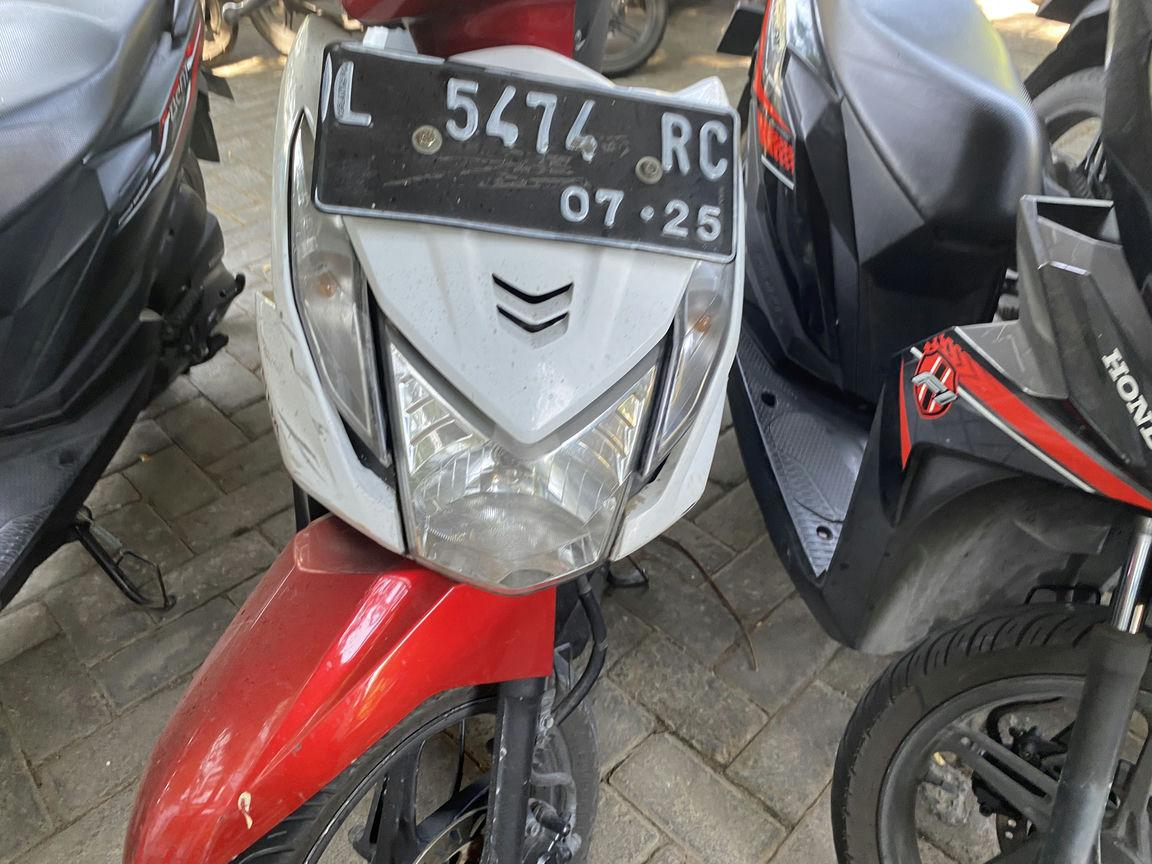plat: (313, 43, 736, 261)
